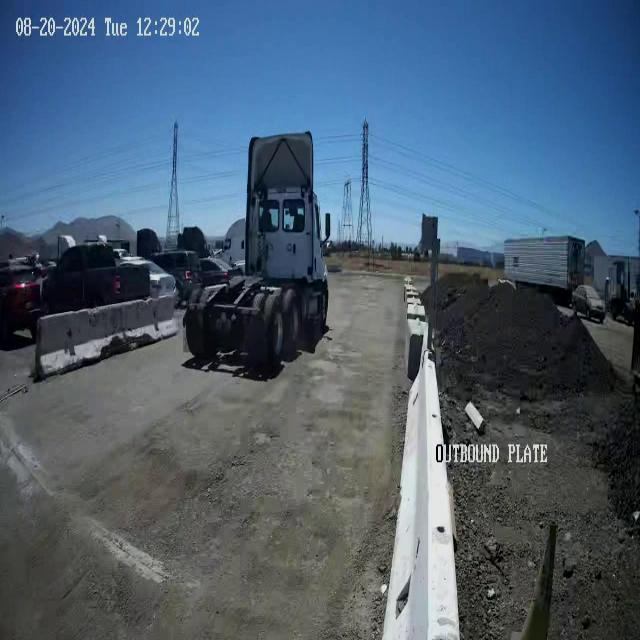BOBTAIL: (182, 130, 331, 368)
